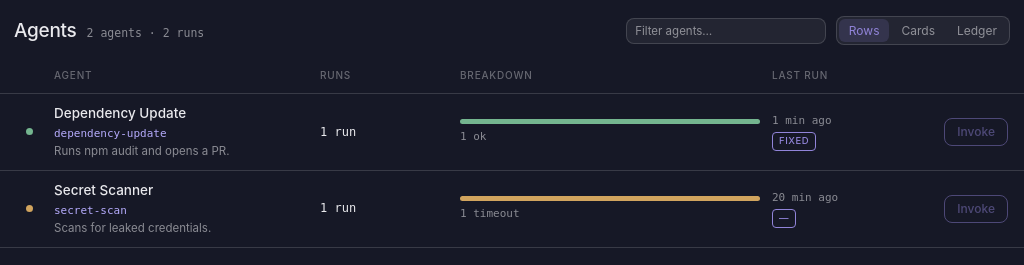
Test: dashboard — filter (AC-107.8, EC-25) › narrows by slug and clears back to the full list
The image size is (1024, 265).
Type "dependency-update" into the search field labelled "Filter agents…". click: (726, 31)
box: [626,18,826,44]
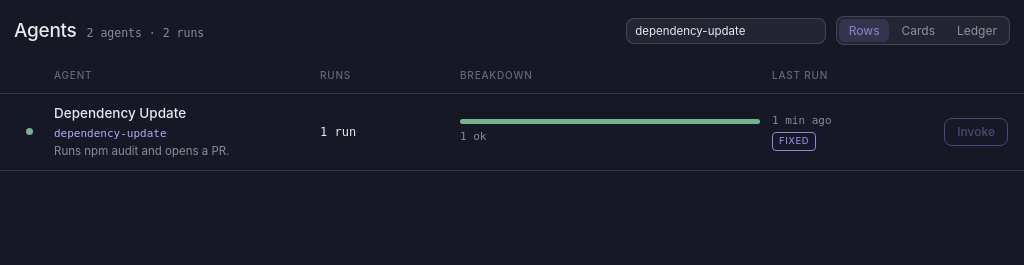
Now the link "Secret Scanner" is gone
Clear the search field named "Filter agents". click: (726, 31)
box: [626,18,826,44]
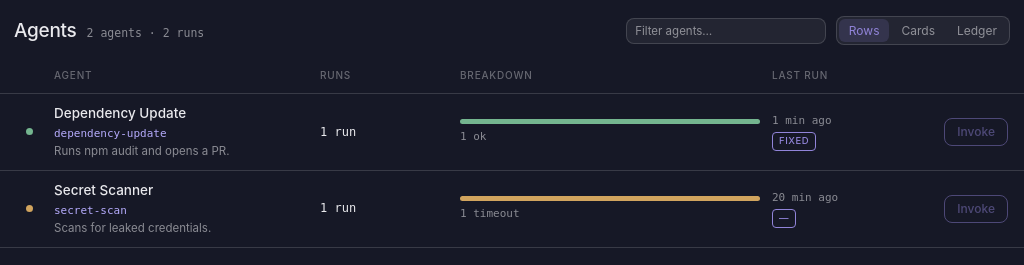
Expected: the link "Dependency Update" is shown, [54,105,186,121]
Now the link "Secret Scanner" is shown, box [54,182,153,198]
